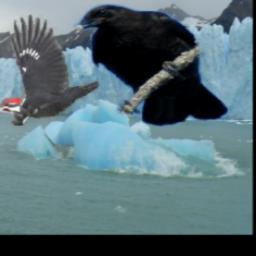Crow: (74, 5, 229, 128)
Woodpecker: (0, 15, 102, 127)
